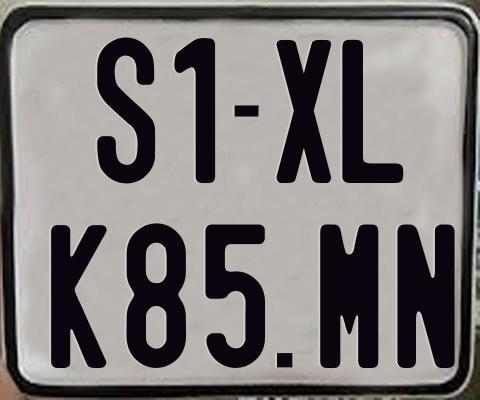1: (171, 37, 212, 184)
5: (202, 224, 267, 368)
8: (124, 222, 186, 367)
K: (49, 224, 106, 368)
L: (339, 40, 402, 187)
M: (317, 223, 379, 370)
N: (396, 224, 460, 369)
S: (94, 35, 158, 186)
X: (274, 37, 335, 183)
